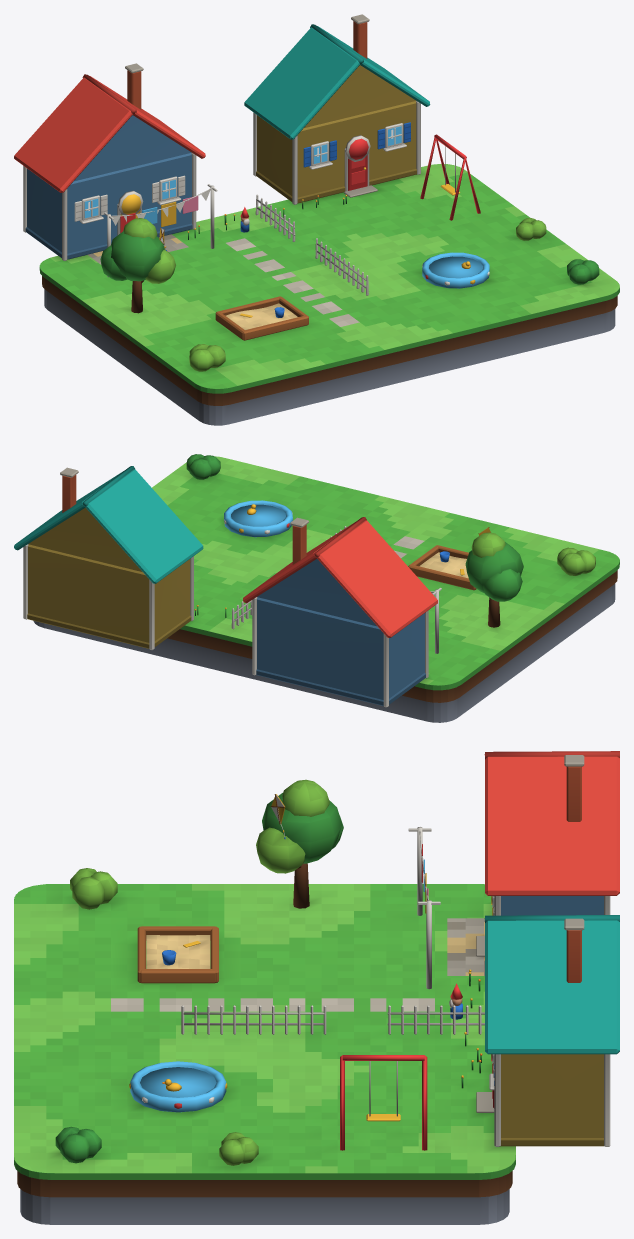
The model's file is gardens.glb.
3 views of the same model, one above another, from view 1: azimuth 30°, elevation 25°; view 2: azimuth 150°, elevation 25°; view 3: azimuth 270°, elevation 25° (orthographic). The views are drawn at different scales.
Parts seen in each view (by area): view 1: gardens_Matte, gardens_Satin, gardens_Gloss, gardens_Water; view 2: gardens_Satin, gardens_Matte, gardens_Gloss, gardens_Water; view 3: gardens_Matte, gardens_Satin, gardens_Gloss, gardens_Water.
Part boxes in pixels (x1,y1,x2,y2): gardens_Matte: (39,164,619,393); gardens_Satin: (23,14,617,425); gardens_Gloss: (14,24,489,317); gardens_Water: (429,256,482,278); gardens_Satin: (23,454,617,722); gardens_Matte: (152,456,619,690); gardens_Gloss: (14,466,464,637); gardens_Water: (231,504,285,526); gardens_Matte: (14,884,515,1179); gardens_Satin: (17,755,610,1224); gardens_Gloss: (129,751,619,1150); gardens_Water: (140,1067,216,1097).
Size of the model in its own units: 15 by 6.42 by 13.28.
